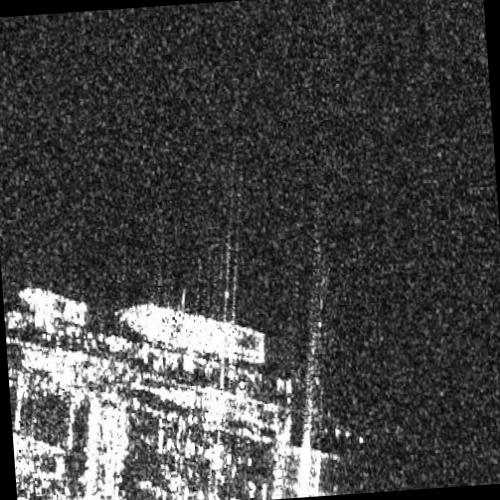ship: (117, 304, 267, 365), (17, 287, 86, 324)
